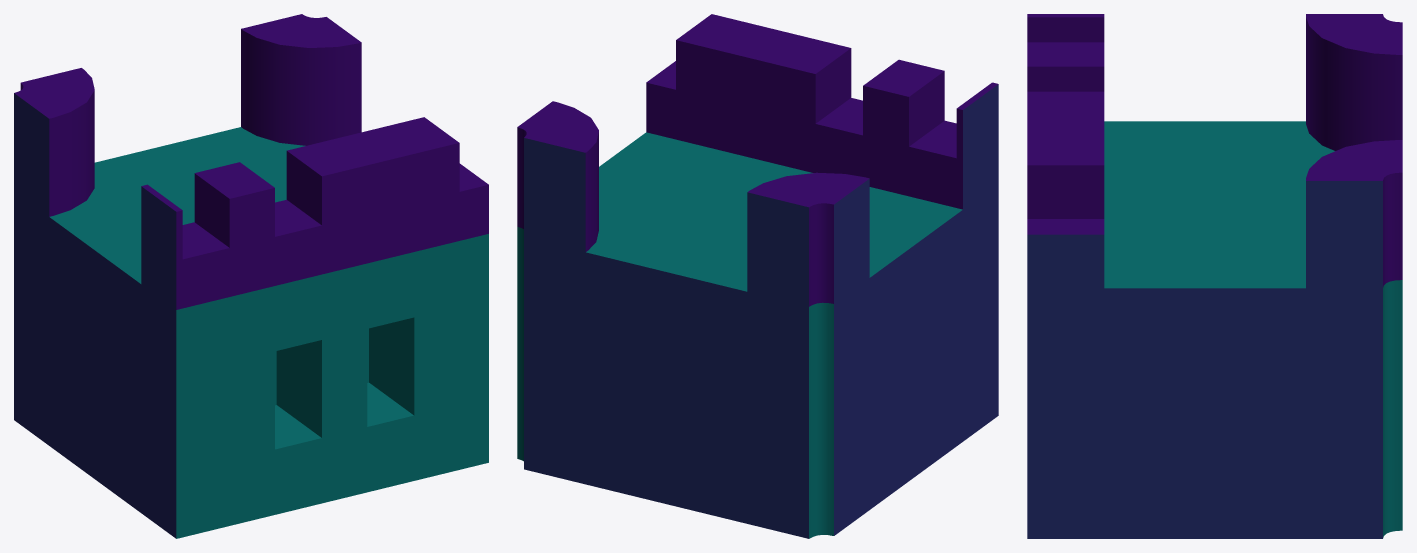
The model's file is Roof_04_C_R.fbx.
The picture shows the model from 3 angles, left to right: view 1: azimuth 30°, elevation 25°; view 2: azimuth 150°, elevation 25°; view 3: azimuth 270°, elevation 25°; orthographic projection. The views are drawn at different scales.
Visible parts, largest first — view 1: 3, 1, 4, 2; view 2: 4, 2, 3, 1; view 3: 2, 1, 4, 3.
Boxes of the visible parts, x1,y1,x2,y2 form: 3: [95, 148, 332, 538]; 1: [298, 117, 488, 500]; 4: [14, 68, 196, 479]; 2: [161, 14, 361, 202]; 4: [666, 172, 916, 538]; 2: [517, 101, 747, 503]; 3: [800, 45, 998, 475]; 1: [600, 14, 839, 202]; 2: [1205, 140, 1402, 538]; 1: [1027, 97, 1204, 538]; 4: [1205, 14, 1402, 204]; 3: [1027, 14, 1204, 204].
Bounding box in the file's own units: 200 × 200 × 190.
